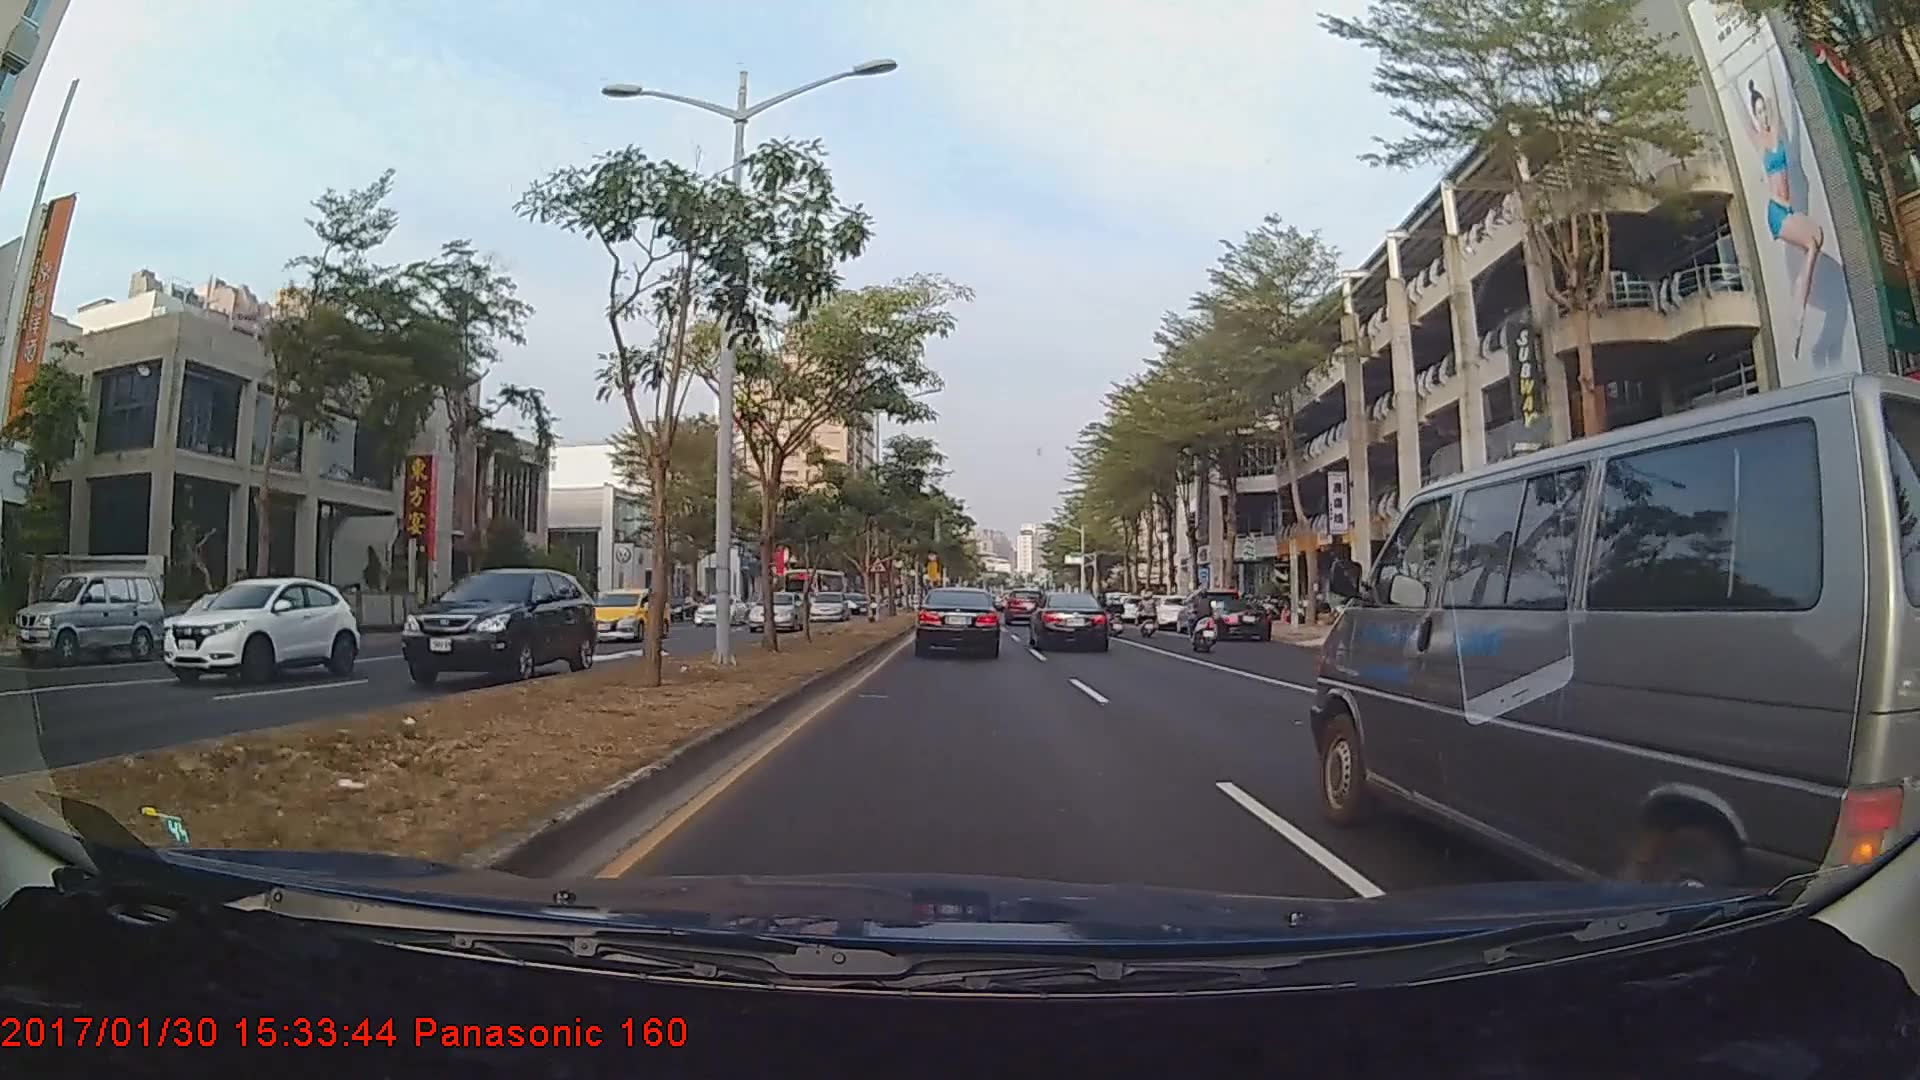rider: (1185, 587, 1223, 659), (1135, 588, 1162, 643)
vehicle: (1300, 395, 1895, 901), (399, 569, 597, 687), (161, 577, 363, 689), (10, 567, 167, 666), (917, 585, 1001, 657), (578, 588, 670, 643), (1031, 590, 1110, 652), (1176, 588, 1245, 637), (781, 570, 847, 619), (1197, 603, 1271, 646), (746, 592, 805, 636), (692, 593, 747, 628), (1005, 589, 1043, 624), (808, 590, 848, 623)
